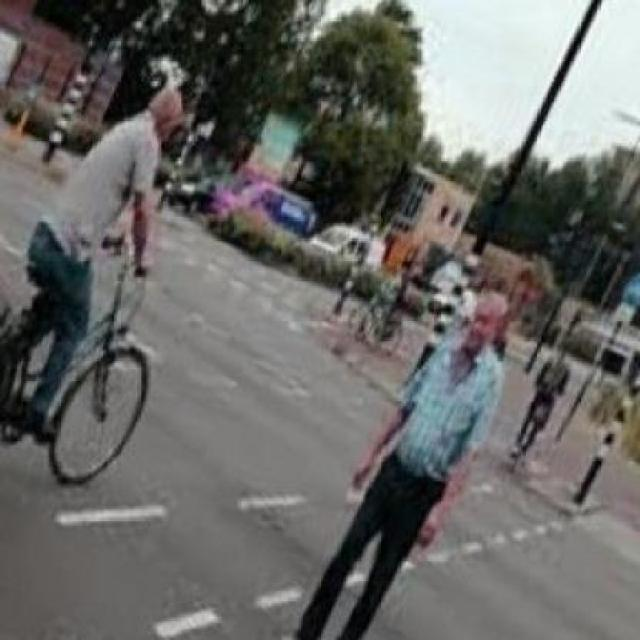Person: (273, 284, 522, 638), (6, 68, 189, 421)
